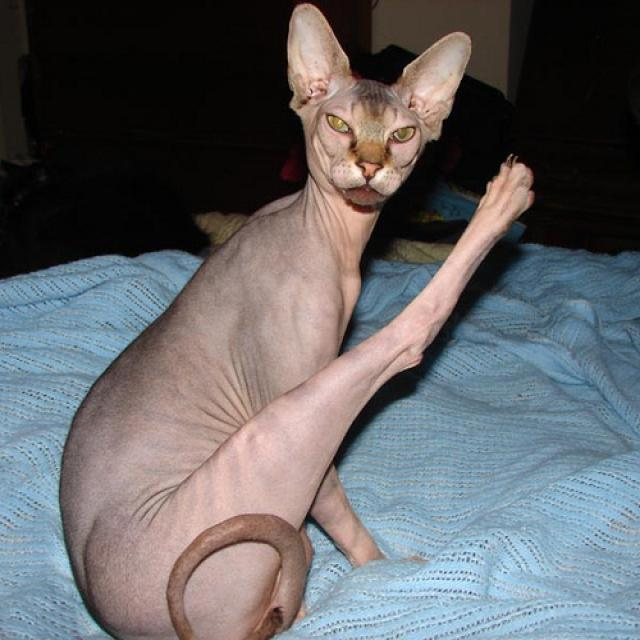cat: (285, 2, 470, 202)
